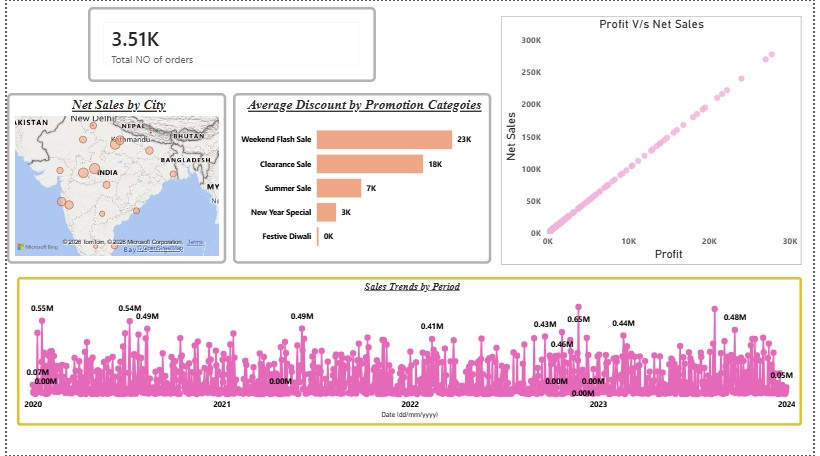

This screenshot's page, from the dashboard's own definition file:
{"tool":"powerbi","page":{"name":"Overview","canvas":[1280,720],"ordinal":0},"visuals":[{"type":"lineChart","title":"Sales Trends by Period","fields":{"Y":["Sum(Fact Table.Net Sales   )"],"Category":["Fact Table.Date (dd/mm/yyyy).Variation.Date Hierarchy.Year"]},"box":[16.4,437.3,1246.3,235.8],"z":0},{"type":"scatterChart","title":"Profit V/s Net Sales   ","fields":{"X":["Fact Table.Profit"],"Y":["Fact Table.Net Sales   "]},"box":[784.8,23,476.6,394.6],"z":1000},{"type":"barChart","title":"Average Discount  by Promotion Categoies","fields":{"Y":["Avg(Fact Table.Discount )"],"Category":["Dim Promotion.Promotion Name"]},"box":[358,146.4,410.1,271],"z":2000},{"type":"map","fields":{"Category":["Dim Customers.City"],"Size":["Sum(Fact Table.Net Sales   )"]},"box":[0,146.4,347.8,271],"z":3000},{"type":"cardVisual","fields":{"Data":["CountNonNull(Fact Table.Order ID)"]},"box":[129,10.1,456.5,118.8],"z":4000}]}

Visuals, with their boxes in screenshot pixels (x1, y1, x2, y2), scaled from the page's 1280x720 canvas onto the 820x456 screenshot:
"Sales Trends by Period" lineChart: region(11, 277, 809, 426)
"Profit V/s Net Sales   " scatterChart: region(503, 15, 808, 264)
"Average Discount  by Promotion Categoies" barChart: region(229, 93, 492, 264)
map - Dim Customers.City x Sum(Fact Table.Net Sales   ): region(0, 93, 223, 264)
cardVisual - CountNonNull(Fact Table.Order ID): region(83, 6, 375, 82)
